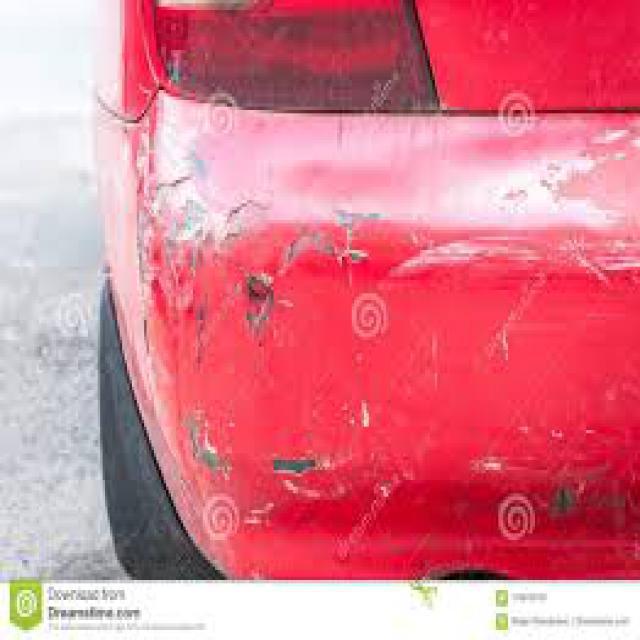rear-bumper-dent: (69, 0, 638, 586)
